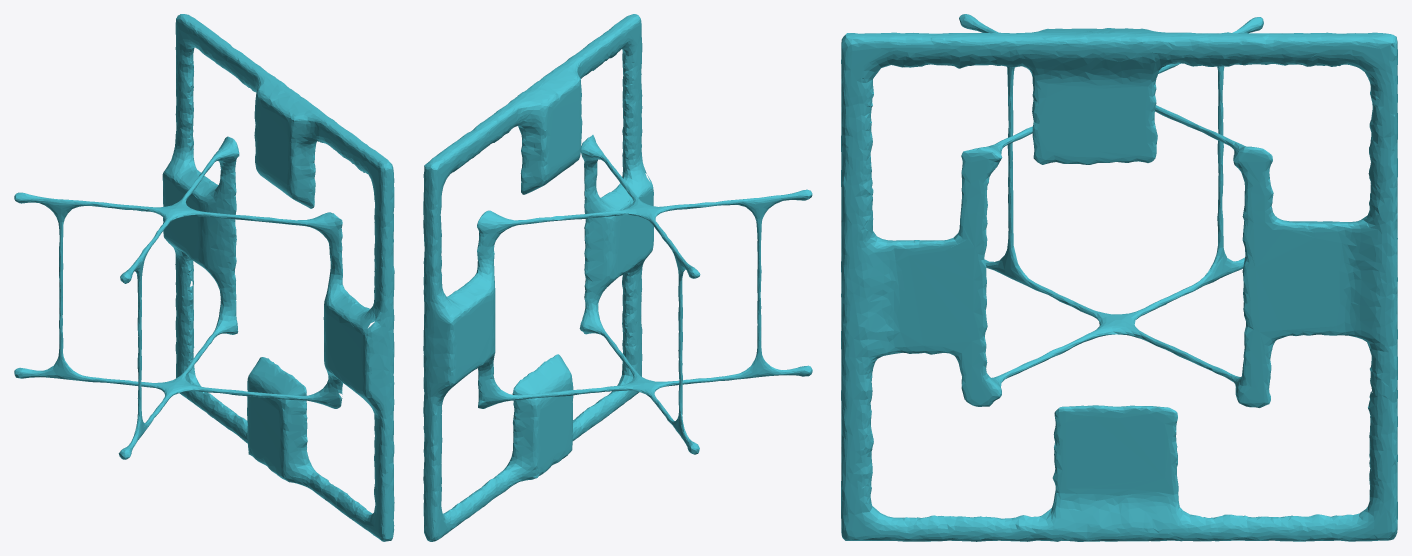
The picture shows the model from 3 angles, left to right: view 1: azimuth 30°, elevation 25°; view 2: azimuth 150°, elevation 25°; view 3: azimuth 270°, elevation 25°; orthographic projection. The views are drawn at different scales.
Visible parts, largest first — view 1: Renderer Node; view 2: Renderer Node; view 3: Renderer Node.
Part boxes in pixels (box(x1,y1,x2,y2)): Renderer Node: box(14, 14, 394, 541); Renderer Node: box(423, 14, 812, 541); Renderer Node: box(841, 14, 1397, 541).
Size of the model in its own units: 0.4068 by 0.6443 by 0.6443.
Materials: 1 (1 with a texture image).
